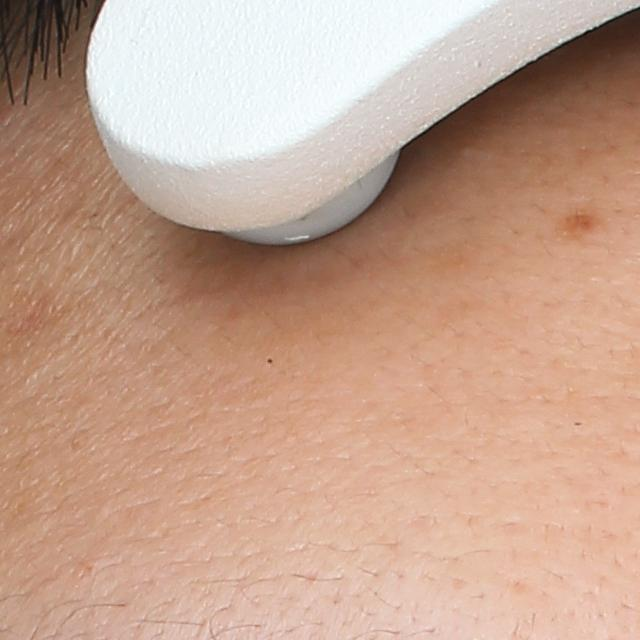comedo: (260, 350, 278, 370)
nevus: (559, 211, 604, 236)
